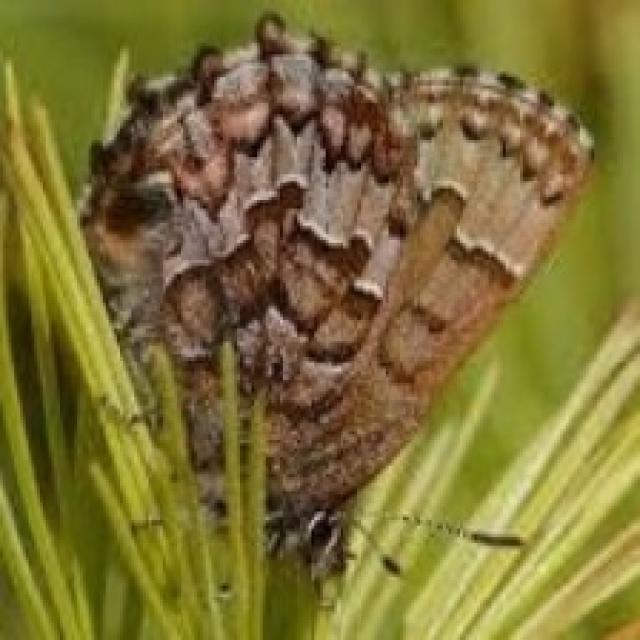butterfly: (72, 9, 597, 600)
